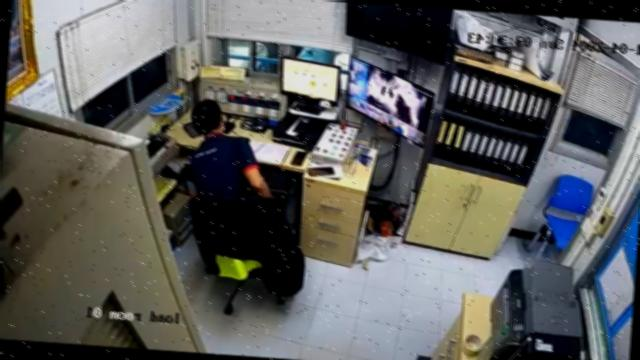Head: (191, 98, 225, 133)
People: (188, 100, 272, 197)
Phone: (289, 151, 306, 165), (307, 167, 334, 175)
